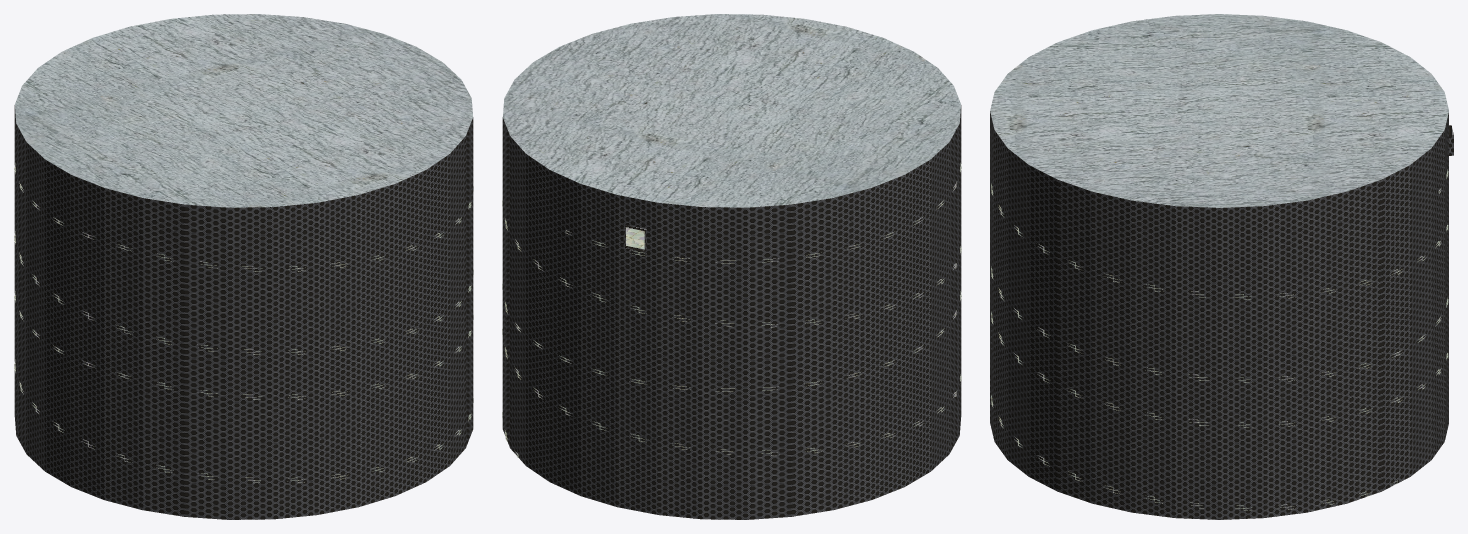
Rendered from room-1-3.dae.
The picture shows the model from 3 angles, left to right: view 1: azimuth 30°, elevation 25°; view 2: azimuth 150°, elevation 25°; view 3: azimuth 270°, elevation 25°; orthographic projection.
Parts seen in each view (by area): view 1: Room-col, Stairs-col; view 2: Room-col, Stairs-col; view 3: Room-col, Stairs-col.
Part boxes in pixels (bbox=[...]): Room-col: bbox=[14, 14, 473, 519]; Stairs-col: bbox=[14, 163, 473, 483]; Room-col: bbox=[502, 14, 961, 519]; Stairs-col: bbox=[502, 163, 961, 457]; Room-col: bbox=[990, 14, 1453, 519]; Stairs-col: bbox=[991, 169, 1448, 510].
Size of what is drawn, in the model's own units: 80 by 80.83 by 60.
